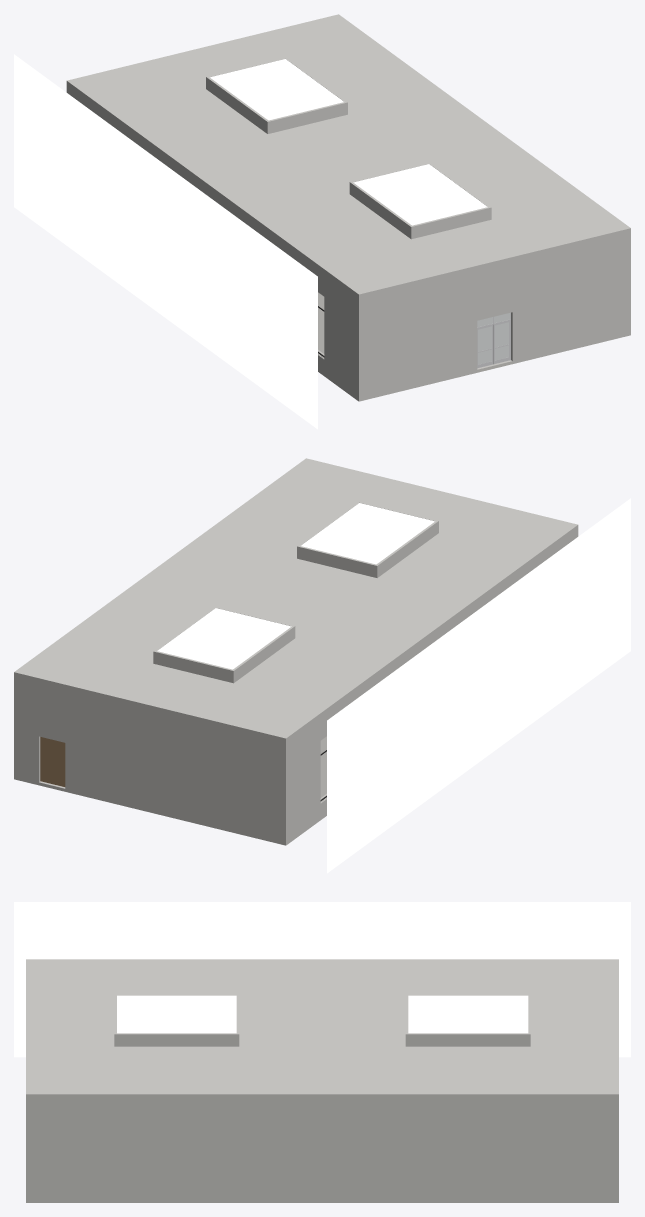
File: T_pannels_school_B.glb
3 renders of one model, top to bottom at view 1: azimuth 30°, elevation 25°; view 2: azimuth 150°, elevation 25°; view 3: azimuth 270°, elevation 25°, orthographic.
Visible parts, largest first — view 1: Ceiling, T_daylight_glow, Hall, T_sky_glow_0, T_sky_glow_1, DoorFrames; view 2: Ceiling, T_daylight_glow, Hall, T_sky_glow_1, T_sky_glow_0, DoorFrames; view 3: Hall, Ceiling, T_daylight_glow, T_sky_glow_1, T_sky_glow_0.
Boxes of the visible parts, x1,y1,x2,y2 form: Ceiling: (74,17,623,291); T_daylight_glow: (14,54,317,429); Hall: (66,14,630,401); T_sky_glow_0: (353,164,487,225); T_sky_glow_1: (210,59,343,120); DoorFrames: (477,312,512,372); Ceiling: (21,461,570,735); T_daylight_glow: (327,498,630,873); Hall: (14,458,578,845); T_sky_glow_1: (157,608,291,669); T_sky_glow_0: (301,503,434,564); DoorFrames: (39,737,65,791); Hall: (26,959,618,1202); Ceiling: (31,961,613,1091); T_daylight_glow: (14,902,630,1057); T_sky_glow_1: (408,995,528,1033); T_sky_glow_0: (117,995,236,1033).
Bounding box in the file's own units: 21.8 × 10 × 36.
8 materials, 1 textured.
